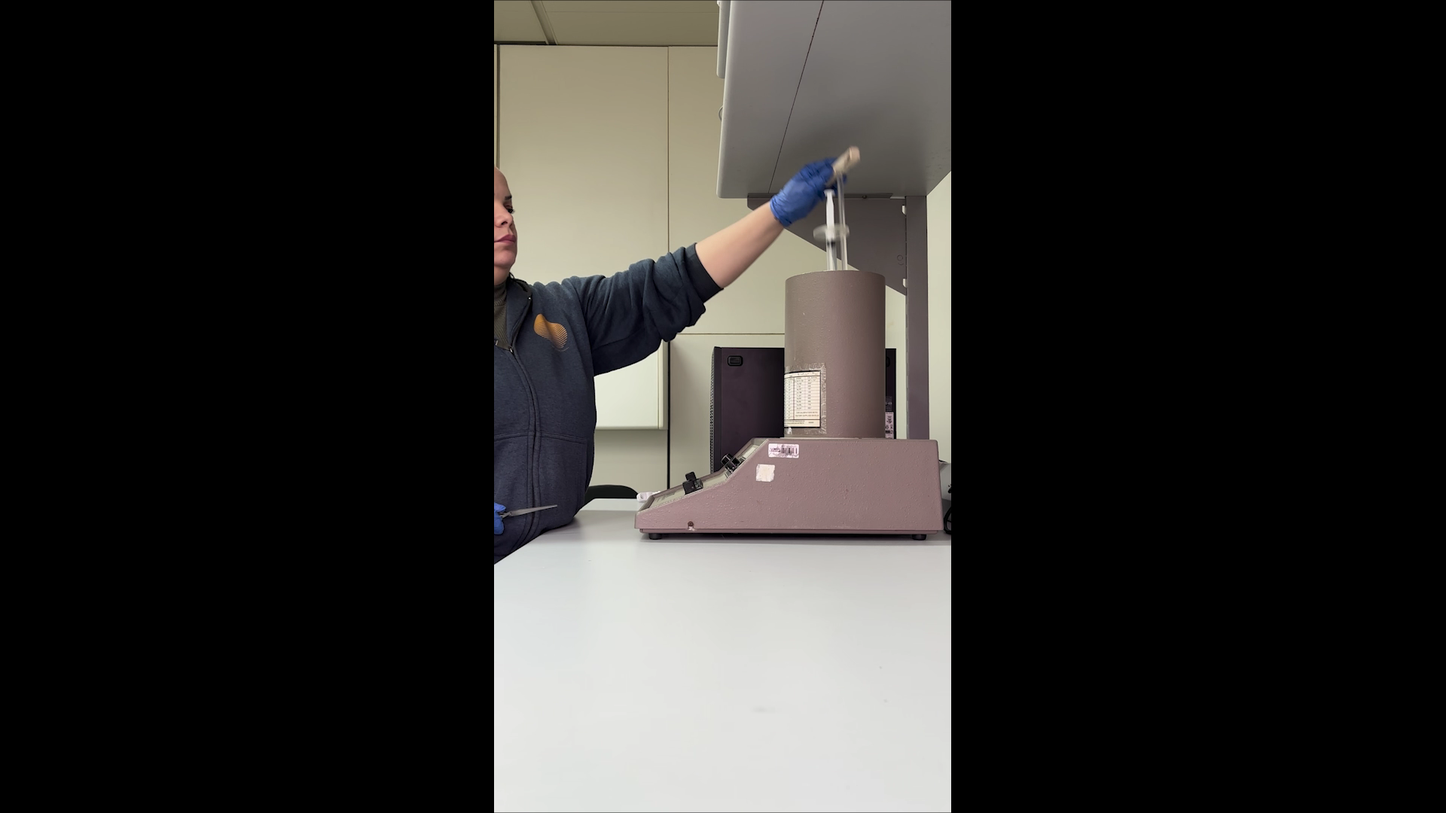Amostra: (823, 190, 840, 272)
Ativimetro: (782, 268, 887, 437)
Com_Luva: (767, 156, 847, 233)
